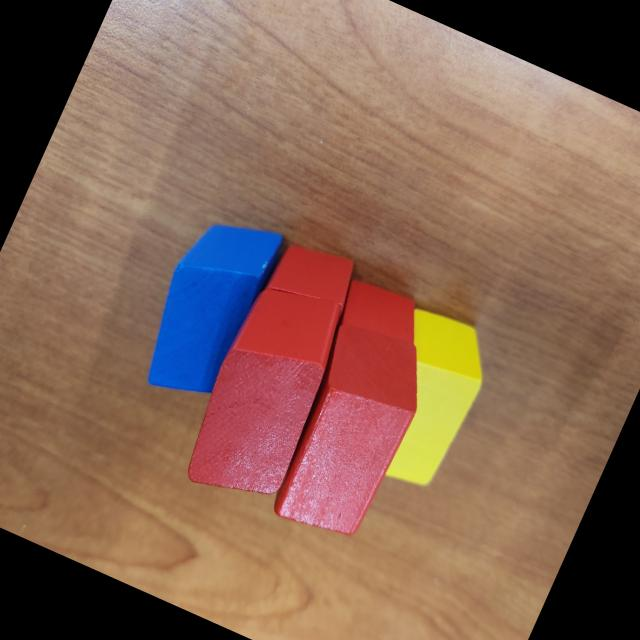blue: (126, 200, 290, 415)
red: (172, 271, 364, 521), (257, 313, 441, 552), (248, 230, 364, 354), (322, 271, 432, 378)
yellow: (346, 302, 503, 499)
